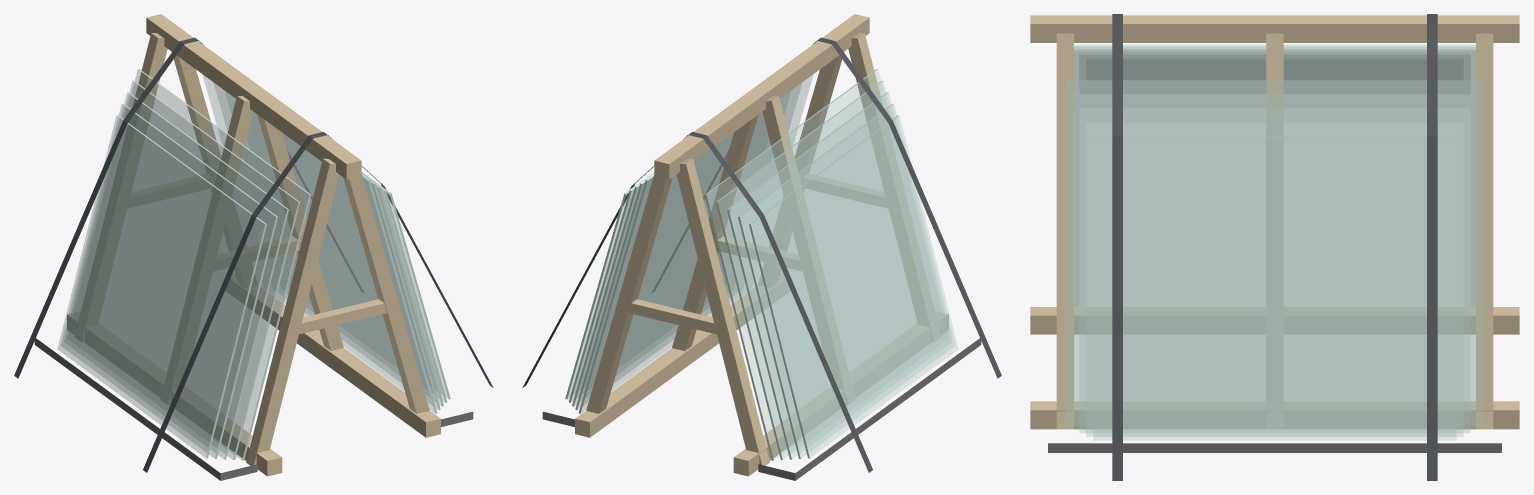
File: glass-panes.glb
The picture shows the model from 3 angles, left to right: view 1: azimuth 30°, elevation 25°; view 2: azimuth 150°, elevation 25°; view 3: azimuth 270°, elevation 25°; orthographic projection. The views are drawn at different scales.
Visible parts, largest first — view 1: GlassPanes; view 2: GlassPanes; view 3: GlassPanes.
Part boxes in pixels (x1,y1,x2,y2): GlassPanes: [14, 14, 493, 480]; GlassPanes: [522, 14, 1001, 480]; GlassPanes: [1030, 14, 1519, 480].
Bounding box in the file's own units: 1.4 × 1.14 × 1.4.
